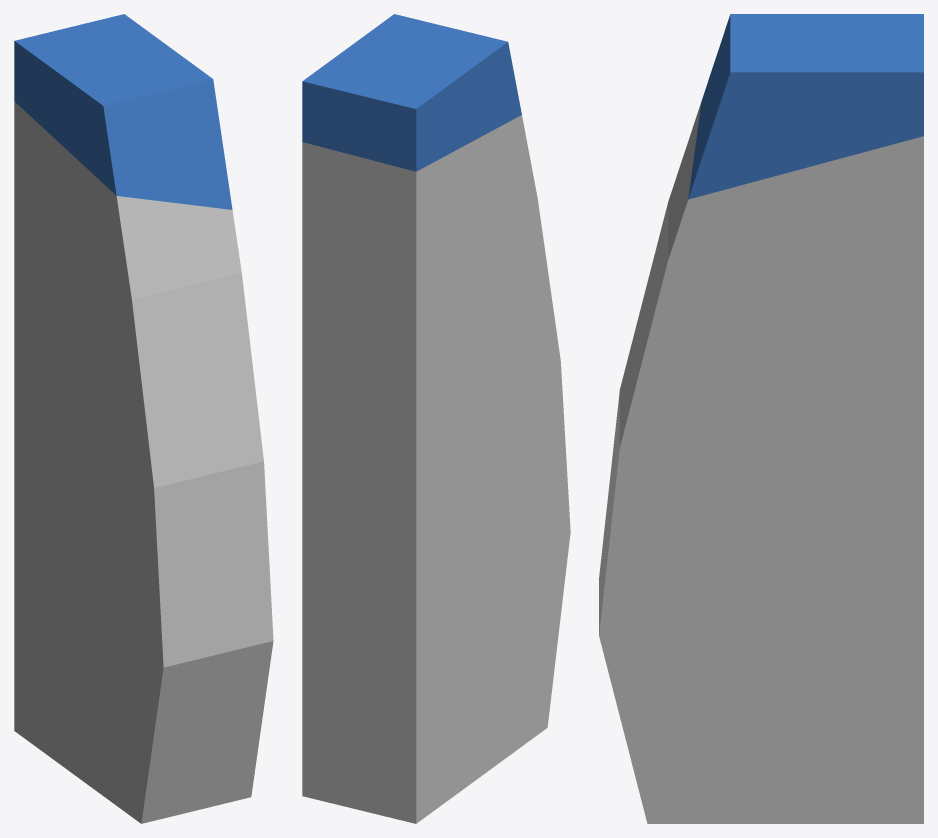
File: BotellaChampu.fbx
3 renders of one model, left to right at view 1: azimuth 30°, elevation 25°; view 2: azimuth 150°, elevation 25°; view 3: azimuth 270°, elevation 25°, orthographic. The views are drawn at different scales.
Visible parts, largest first — view 1: Cube; view 2: Cube; view 3: Cube.
Boxes of the visible parts, box(x1,y1,x2,y2) form: Cube: box(14, 14, 273, 823); Cube: box(302, 14, 570, 823); Cube: box(599, 14, 923, 823).
Bounding box in the file's own units: 100 × 600 × 235.
